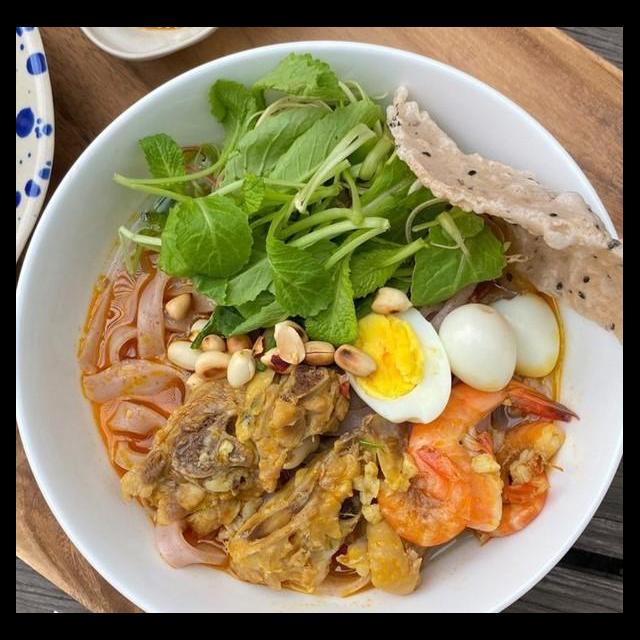banh da: (384, 82, 624, 348)
mi: (75, 257, 234, 481), (146, 514, 234, 574)
thit heo: (114, 358, 360, 536), (215, 408, 424, 594)
tom: (401, 374, 584, 544), (371, 440, 476, 547)
trung: (338, 301, 456, 427), (438, 300, 520, 395), (488, 288, 564, 381)
